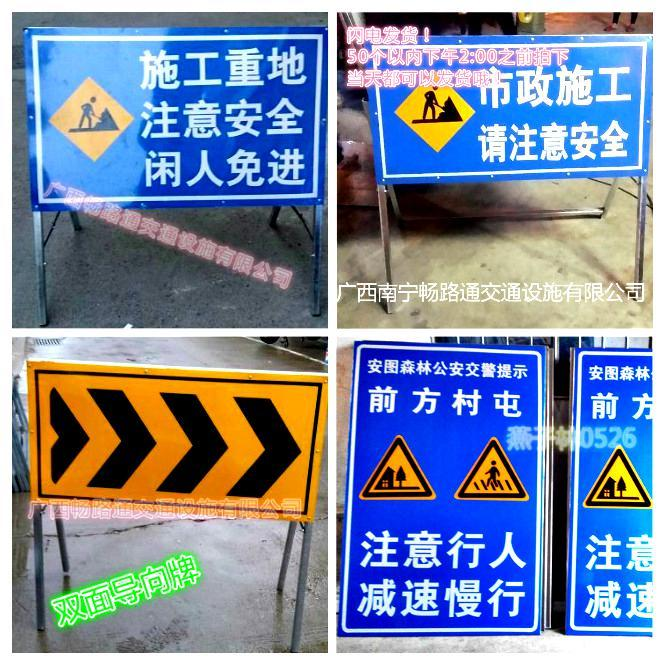sign: (29, 36, 321, 200), (31, 369, 311, 523), (369, 45, 647, 175)
